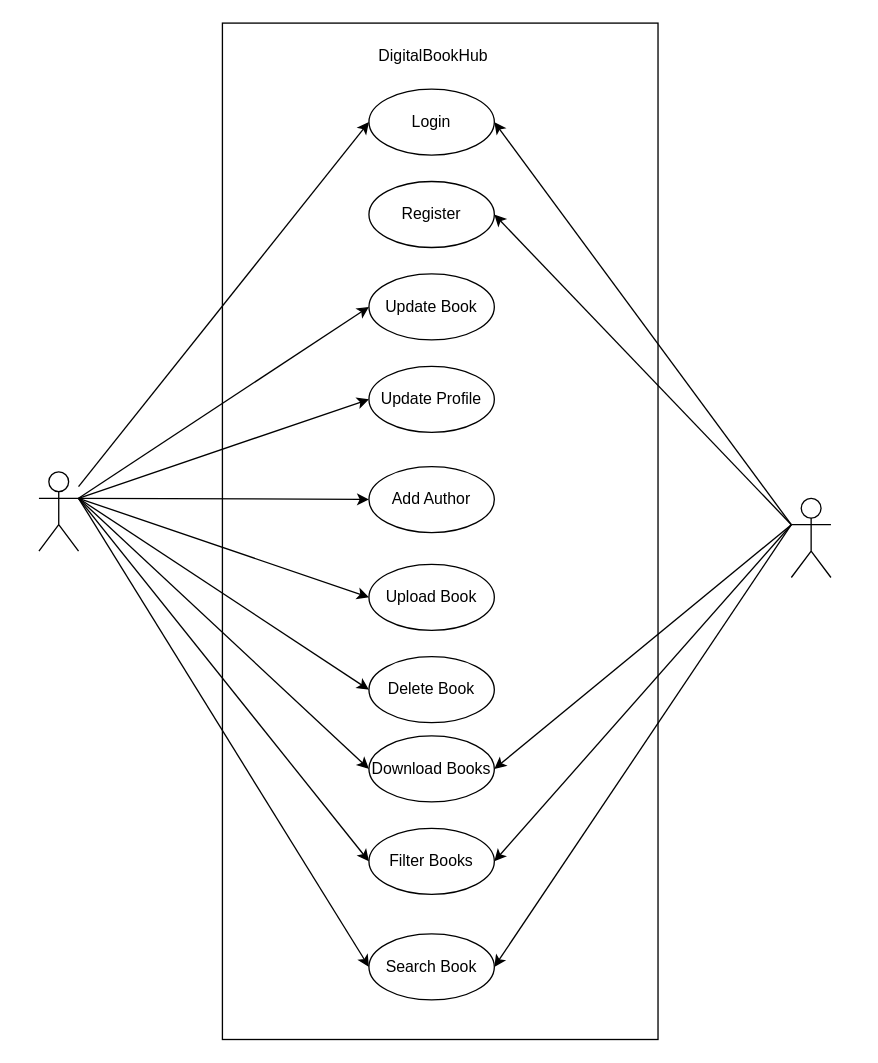
Image size: 878x1063. Some labels were removed from this diagram. The shapes that lost their labels are listed below. From the top down, each one's centre as x and y in pixels, then its label:
[58,511]: Uploaders
[810,537]: Public Users
